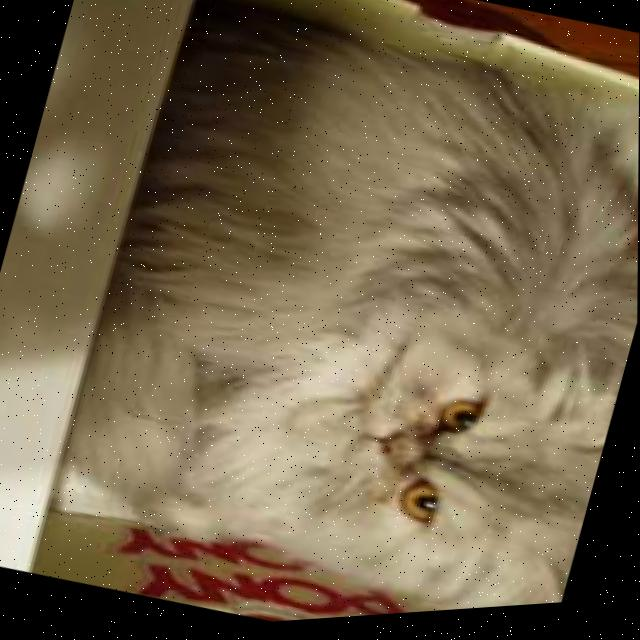Persian: (42, 0, 640, 638)
